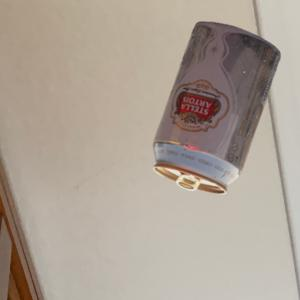can: (150, 20, 285, 199)
